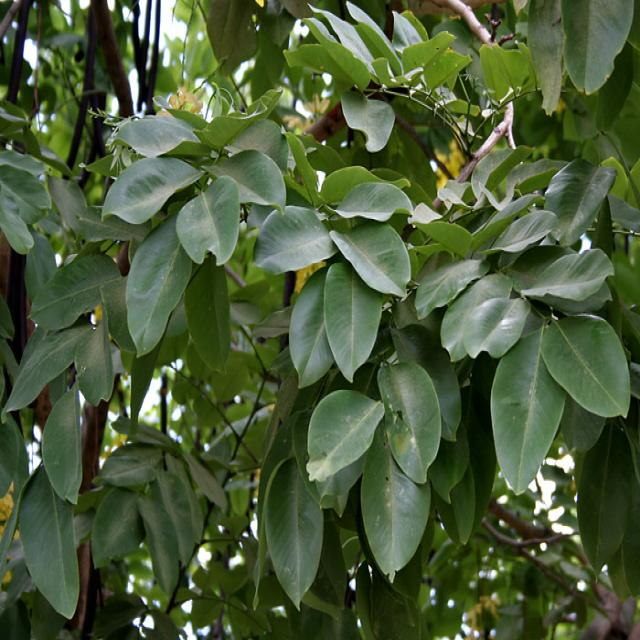Amaltas: (411, 148, 640, 545), (40, 264, 263, 640), (223, 326, 490, 640), (253, 170, 480, 452), (308, 5, 565, 222), (84, 92, 263, 276)
